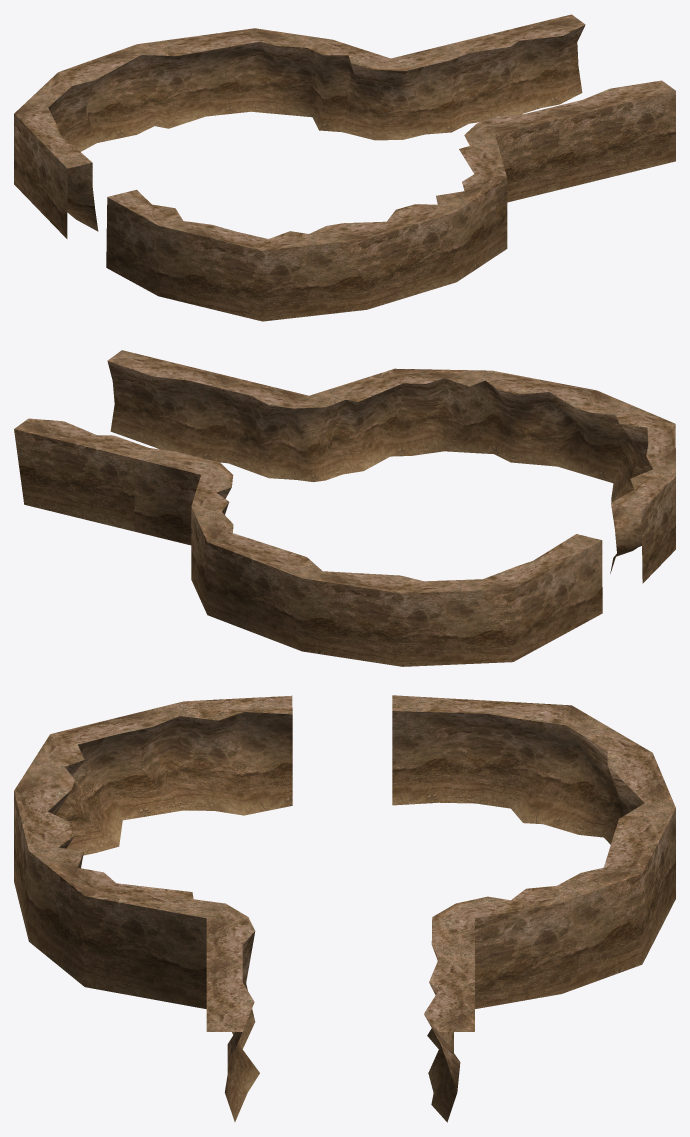
The model's file is dcfx_qm_01.FBX.
3 views of the same model, one above another, from view 1: azimuth 30°, elevation 25°; view 2: azimuth 150°, elevation 25°; view 3: azimuth 270°, elevation 25° (orthographic). The views are drawn at different scales.
Visible parts, largest first — view 1: dcfx_qm_01; view 2: dcfx_qm_01; view 3: dcfx_qm_01.
Boxes of the visible parts, box(x1,y1,x2,y2) form: dcfx_qm_01: box(14, 14, 675, 321); dcfx_qm_01: box(14, 350, 675, 666); dcfx_qm_01: box(14, 695, 675, 1122).
Bounding box in the file's own units: 4339 × 546 × 3604.
